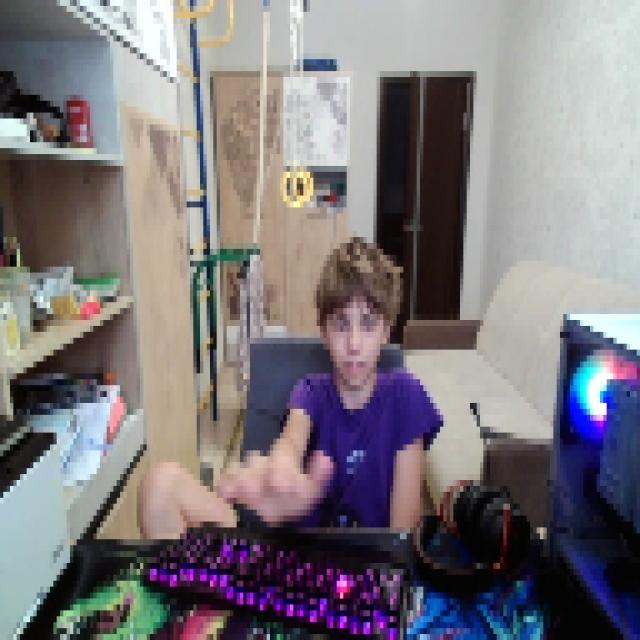hand: (217, 432, 333, 522)
